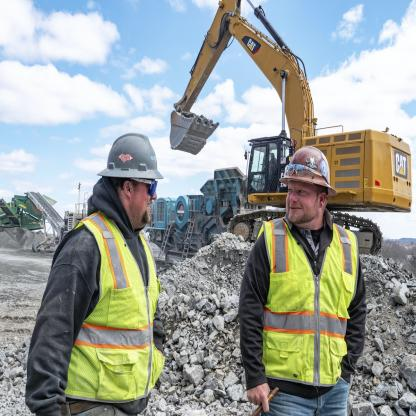excavator: (157, 2, 416, 260)
person: (21, 127, 175, 416), (242, 126, 371, 416)
